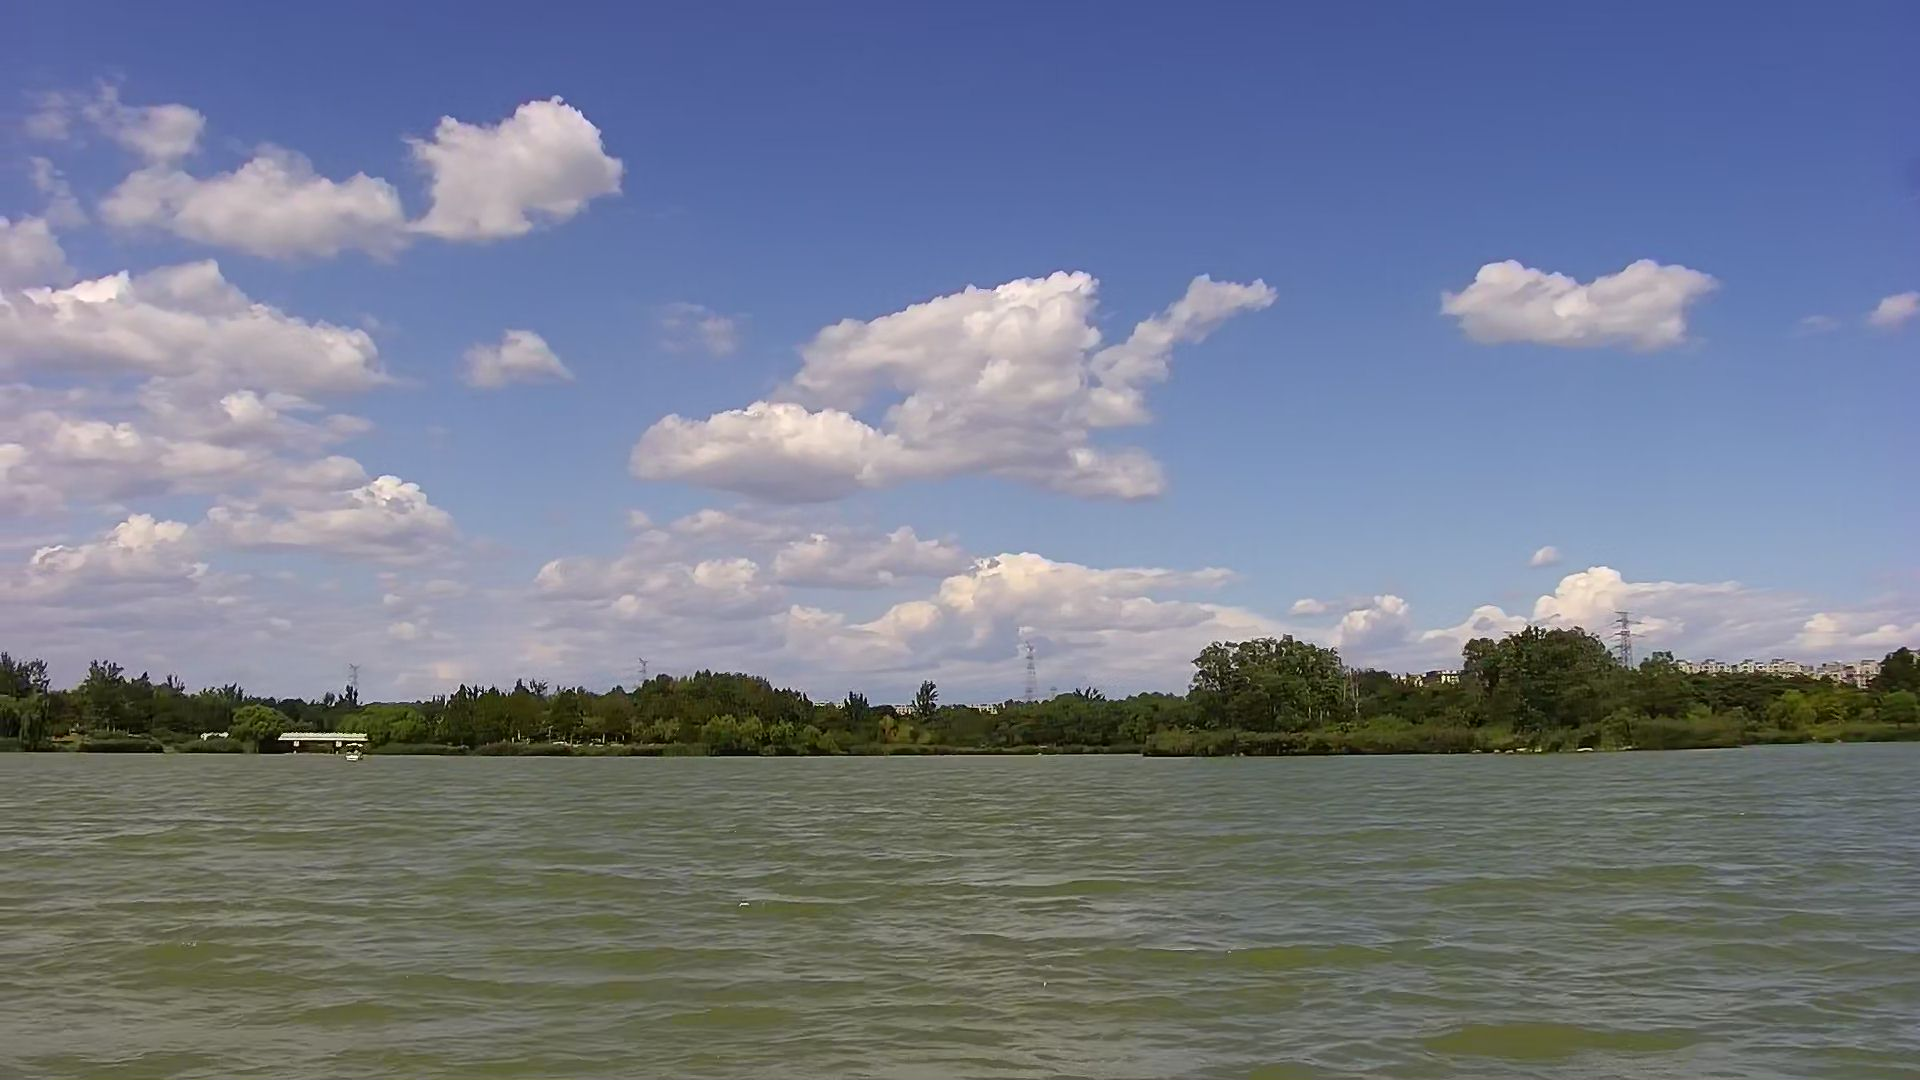bridge: (266, 720, 377, 758)
